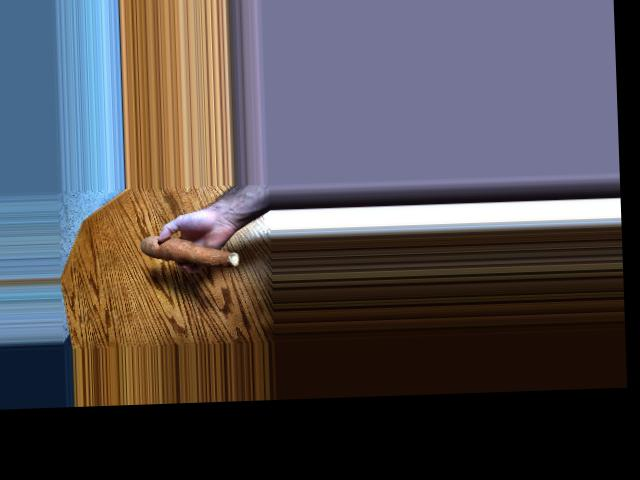sweet_potato: (135, 239, 243, 268)
